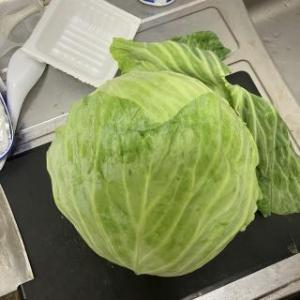cabbage: (44, 70, 264, 280)
